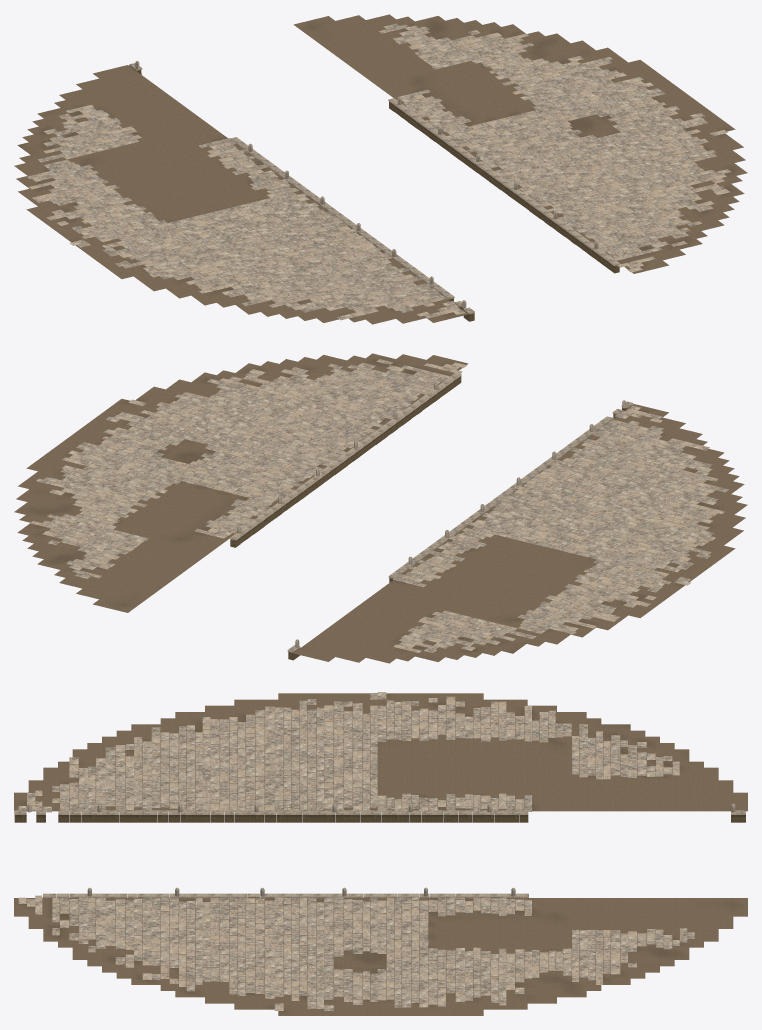
The picture shows the model from 3 angles, top to bottom: view 1: azimuth 30°, elevation 25°; view 2: azimuth 150°, elevation 25°; view 3: azimuth 270°, elevation 25°; orthographic projection. The views are drawn at different scales.
Parts seen in each view (by area): view 1: bed, slab_a, slab_b, slab_c, coping, block; view 2: bed, slab_a, slab_b, slab_c, coping, block; view 3: bed, slab_a, slab_c, slab_b, coping, block.
Part boxes in pixels (bbox=[...]): bed: bbox=[14, 14, 747, 324]; slab_a: bbox=[26, 26, 727, 318]; slab_b: bbox=[43, 23, 731, 312]; slab_c: bbox=[29, 25, 730, 320]; coping: bbox=[129, 61, 619, 314]; block: bbox=[129, 65, 619, 321]; bed: bbox=[14, 353, 747, 663]; slab_a: bbox=[42, 359, 724, 652]; slab_b: bbox=[45, 363, 728, 645]; slab_c: bbox=[30, 363, 717, 652]; coping: bbox=[230, 372, 633, 652]; block: bbox=[230, 376, 630, 660]; bed: bbox=[14, 693, 747, 1015]; slab_a: bbox=[18, 698, 679, 1010]; slab_c: bbox=[27, 692, 687, 1007]; slab_b: bbox=[35, 694, 694, 1001]; coping: bbox=[14, 803, 745, 897]; block: bbox=[14, 815, 745, 897].
Size of the model in its own units: 52.2 by 1.28 by 50.
Materials: 6 (6 with a texture image).
